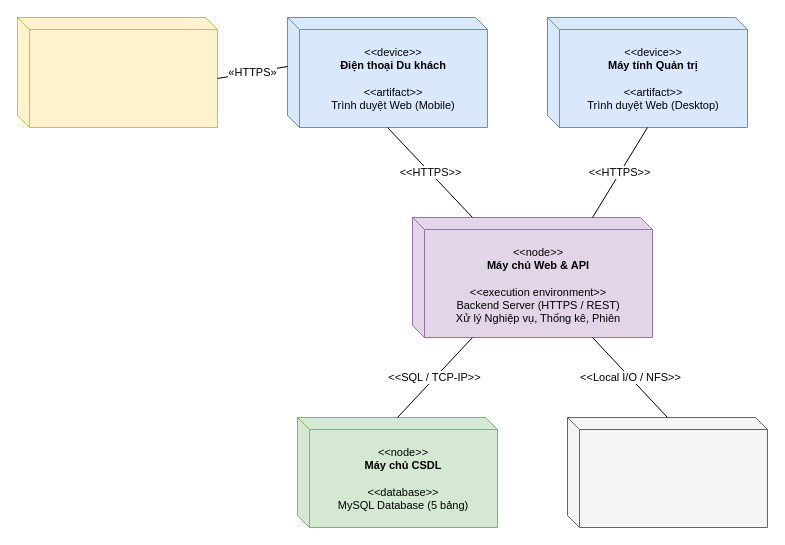
The diagram is 785 pixels wide and 545 high, and some of its shapes have lost their labels. Here are the shapes that lost their labels. From the top down, the centre of each, then its label:
(x=117, y=72): <<node>> External Map Server Dịch vụ bản đồ ngoài (Map Tiles API)
(x=667, y=472): <<node>> Kho Tệp Media <<storage>> Lưu trữ Ảnh & Audio
